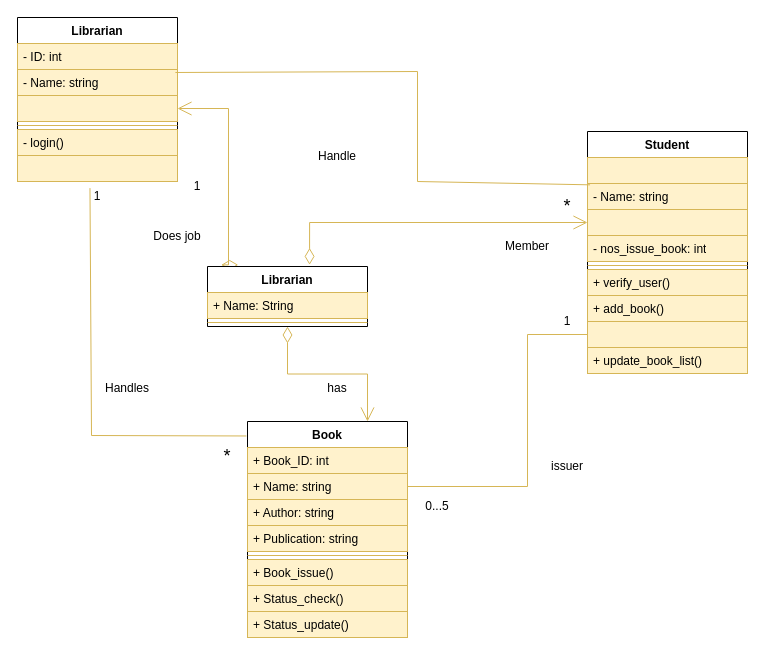
This 765x658 diagram has some shape labels left out. The shapes that lost their labels are listed below. From the top down, each one's centre as x and y in pixels, then its label:
At (97,108): "- Contact_no: int".
At (97,168): "- update_info()".
At (667,170): "- Student_ID: int".
At (667,222): "- Email: string".
At (667,334): "+ remove_book()".
